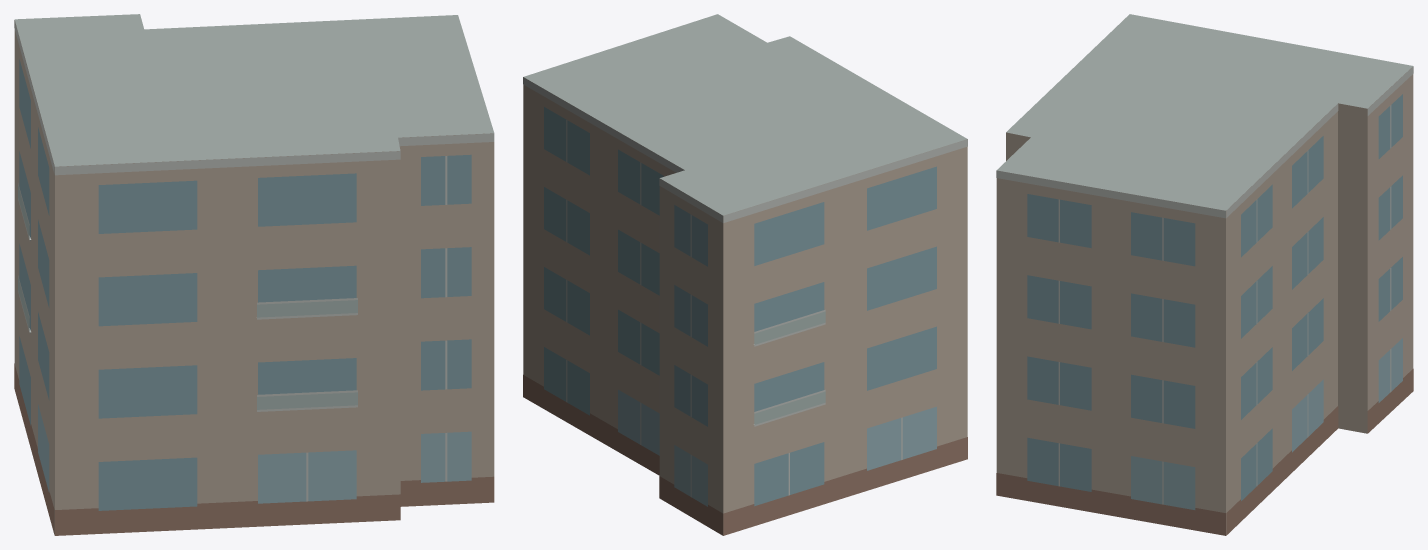
Rendered from survey-upis-32530743.glb.
3 views of the same model, side by side, from view 1: azimuth 30°, elevation 25°; view 2: azimuth 150°, elevation 25°; view 3: azimuth 270°, elevation 25° (orthographic). The views are drawn at different scales.
Parts seen in each view (by area): view 1: survey-upis-32530743.tmp; view 2: survey-upis-32530743.tmp; view 3: survey-upis-32530743.tmp.
Part boxes in pixels (<box>): survey-upis-32530743.tmp: <box>14,14,494,535</box>; survey-upis-32530743.tmp: <box>523,14,967,535</box>; survey-upis-32530743.tmp: <box>996,14,1413,535</box>.
Size of the model in its own units: 13.51 by 10.4 by 12.1.
